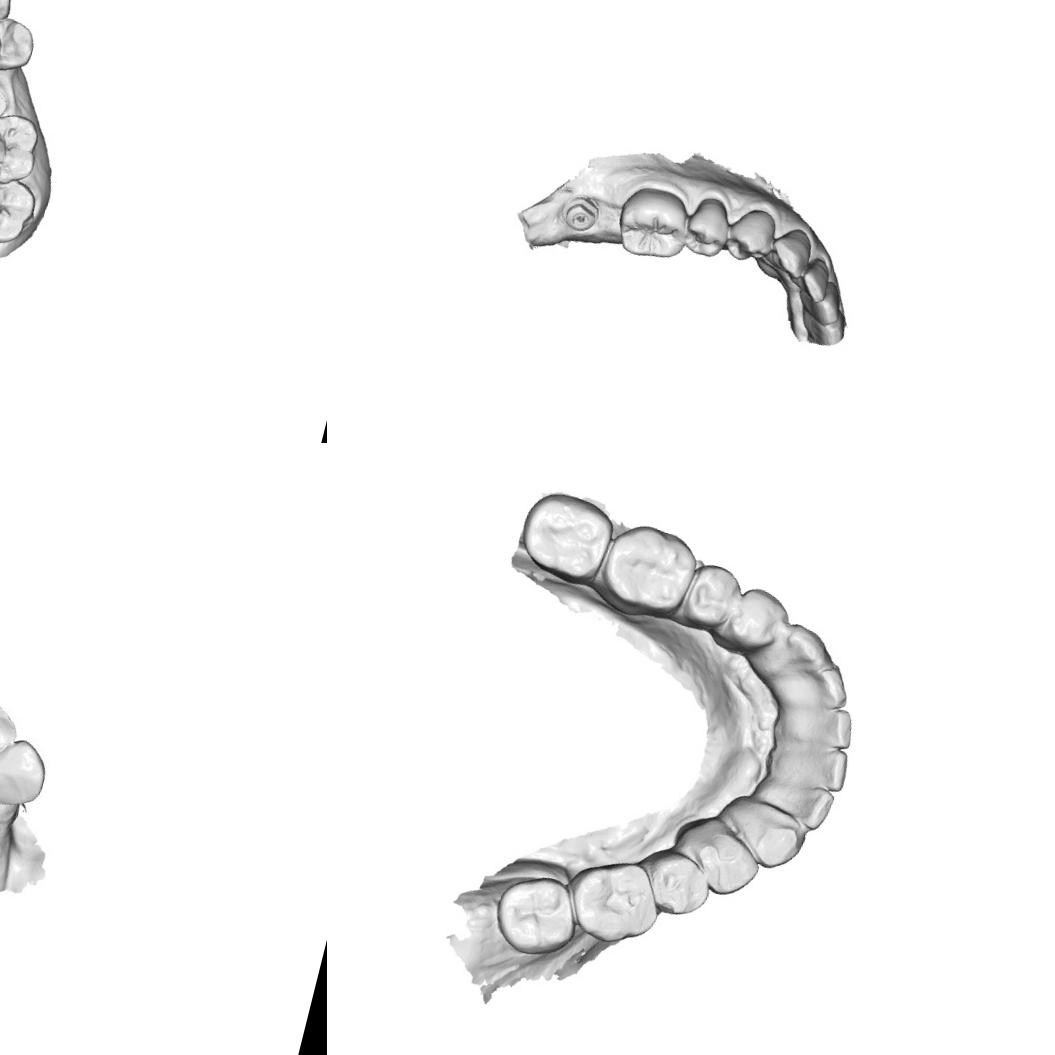canine: (714, 789, 812, 876), (768, 618, 838, 684), (0, 725, 49, 812), (762, 221, 816, 282)
implant: (0, 81, 12, 124)
implant_minus: (555, 188, 603, 236)
incisor: (780, 734, 853, 798), (770, 774, 839, 836), (787, 696, 858, 756), (786, 656, 854, 716), (794, 252, 836, 306), (796, 284, 846, 328), (0, 690, 20, 759)
molar: (558, 848, 670, 955), (596, 518, 704, 622), (512, 484, 618, 587), (486, 864, 587, 966), (608, 178, 698, 268), (0, 101, 46, 195), (0, 165, 42, 254)
premolar: (715, 582, 796, 664), (636, 844, 718, 924), (672, 554, 751, 636), (690, 829, 761, 900), (680, 192, 737, 262), (722, 202, 780, 268), (0, 7, 39, 83)
